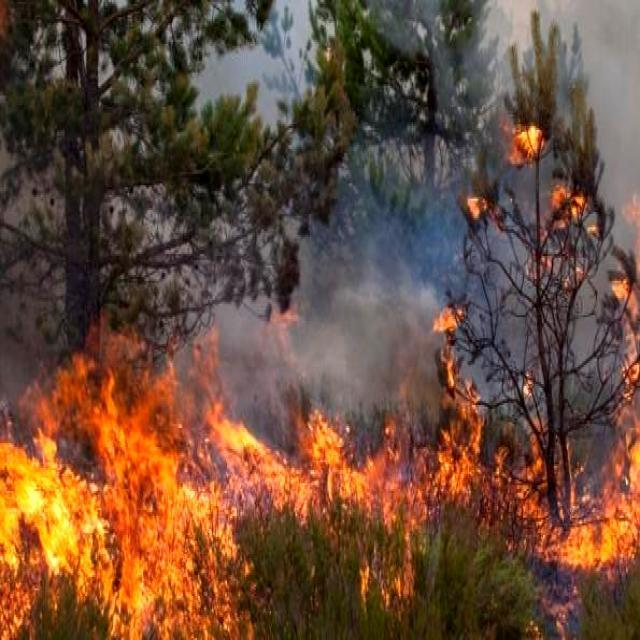Fire: (2, 323, 264, 640), (318, 408, 640, 632), (441, 93, 623, 296)
Smoke: (256, 0, 640, 420)
